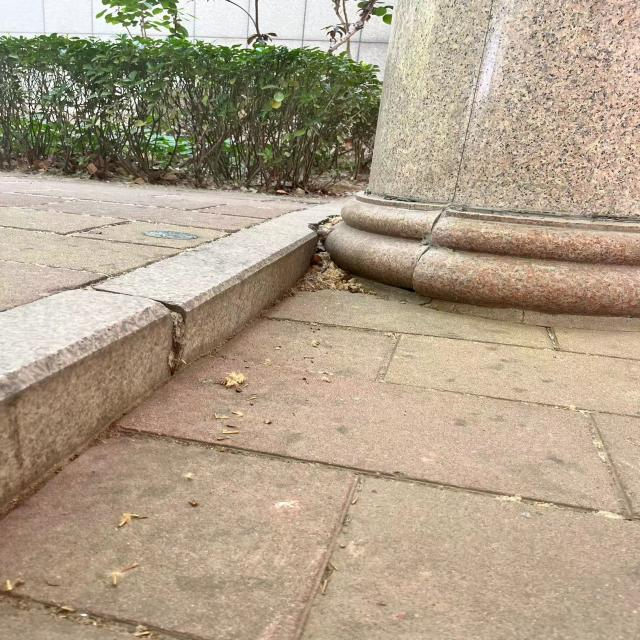curb: (1, 198, 333, 501)
